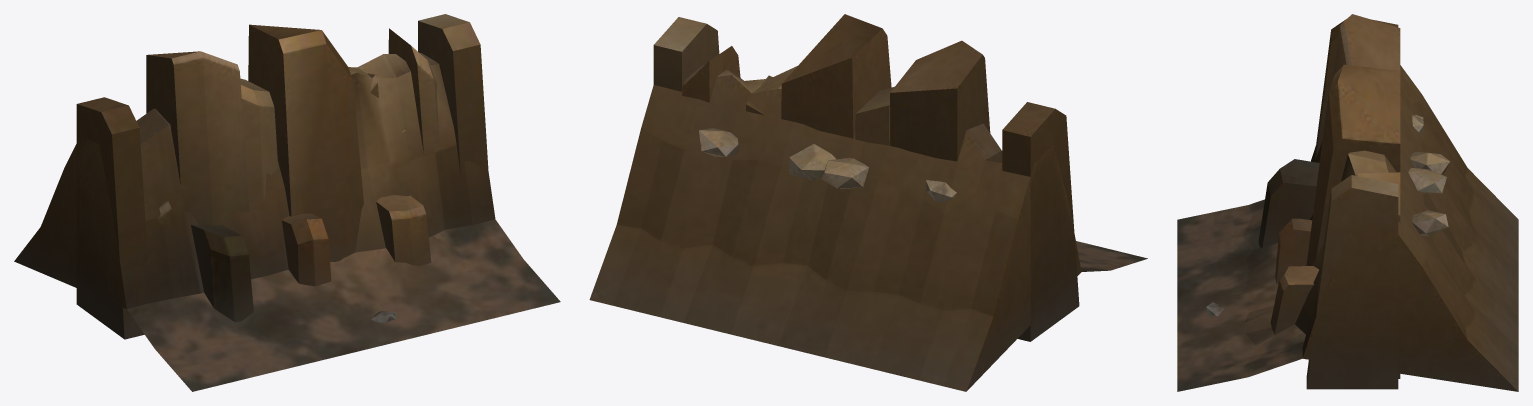
Rendered from cliff-sides-2.glb.
The picture shows the model from 3 angles, left to right: view 1: azimuth 30°, elevation 25°; view 2: azimuth 150°, elevation 25°; view 3: azimuth 270°, elevation 25°; orthographic projection. The views are drawn at different scales.
Visible parts, largest first — view 1: cliff-sides-2; view 2: cliff-sides-2; view 3: cliff-sides-2.
Part boxes in pixels (x1,y1,x2,y2): cliff-sides-2: [14, 14, 560, 391]; cliff-sides-2: [589, 14, 1147, 391]; cliff-sides-2: [1177, 14, 1518, 391].
Bounding box in the file's own units: 4 × 2.63 × 3.35.
Materials: 3 (3 with a texture image).
